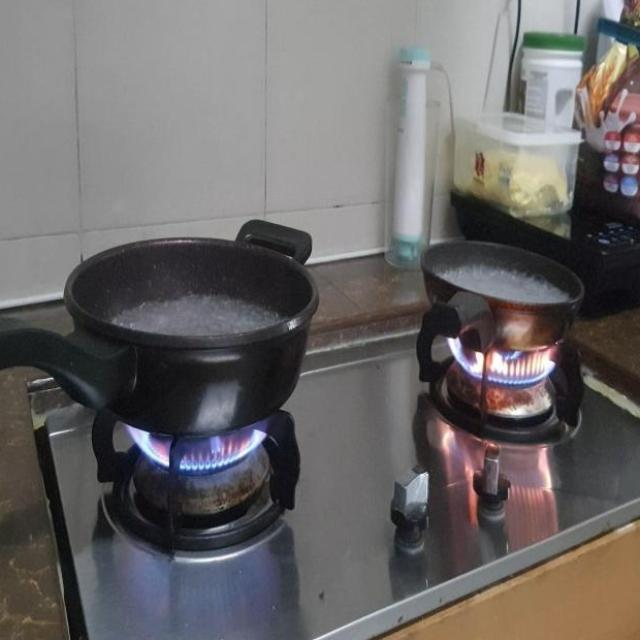smoke: (118, 408, 274, 474), (438, 337, 569, 396)
